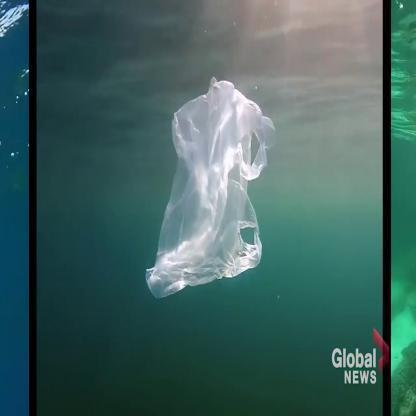Rác: (146, 75, 290, 302)
